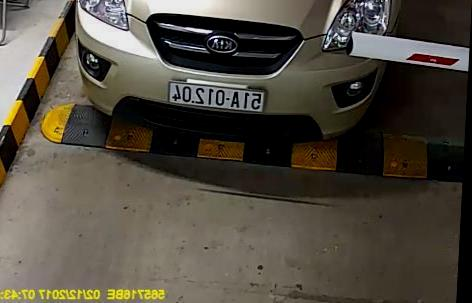License_Plate: (162, 81, 266, 117)
